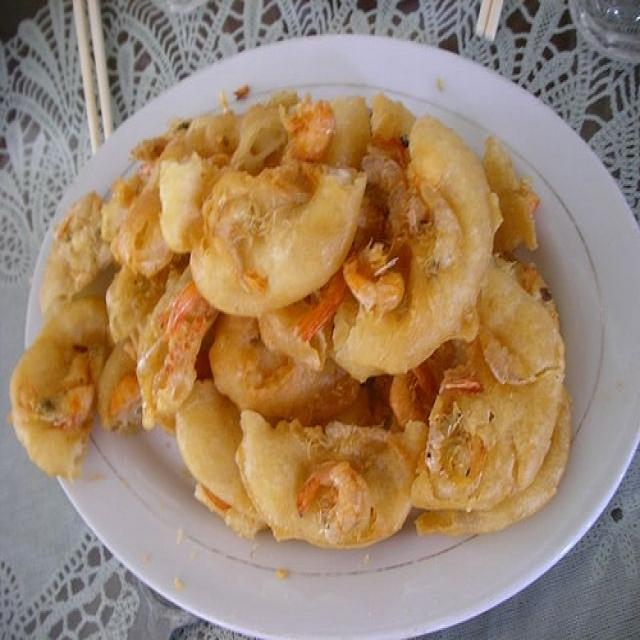炸货点心: (18, 31, 619, 621)
熟制海鲜: (18, 31, 619, 621)
